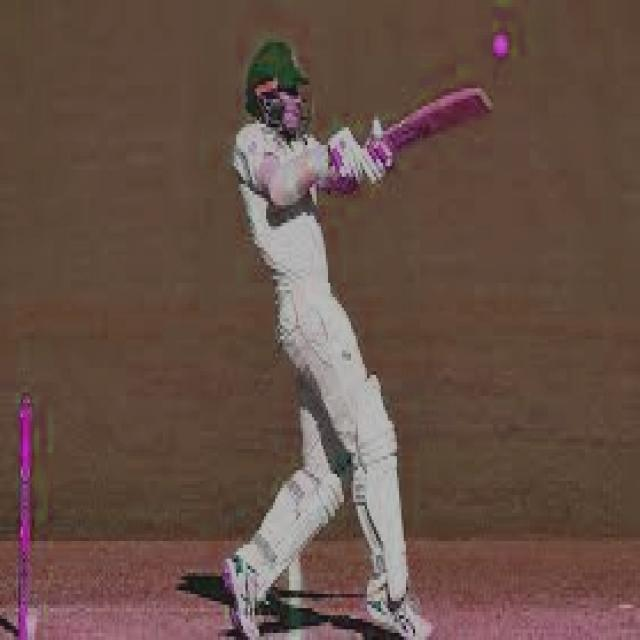toe: (469, 86, 498, 118)
